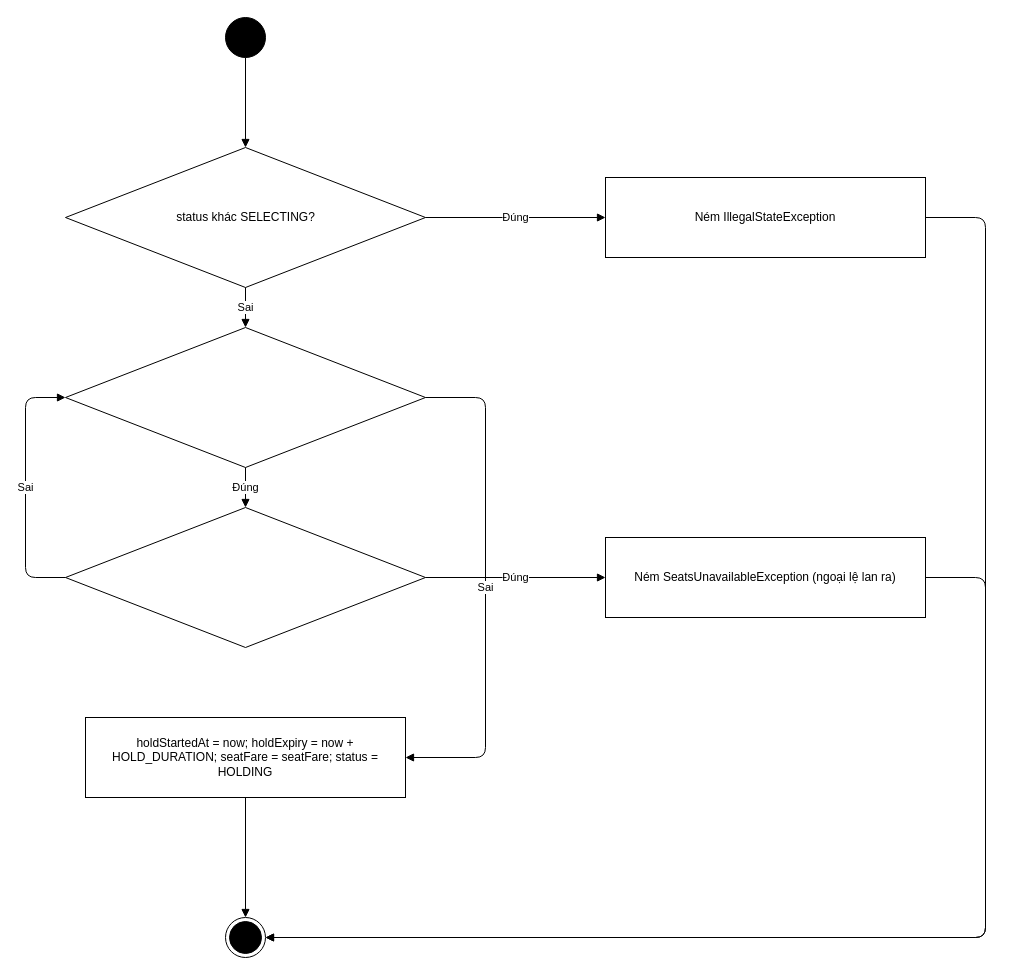
The diagram is 1011 pixels wide and 975 high, and some of its shapes have lost their labels. The box of each missing label's shape, as (x1, y1, x2, y2) in pixels:
Còn chỗ chưa duyệt (theo mã chỗ tăng dần)?: (64, 326, 426, 468)
seat.markHeld() ném SeatsUnavailableException?: (64, 506, 426, 648)
